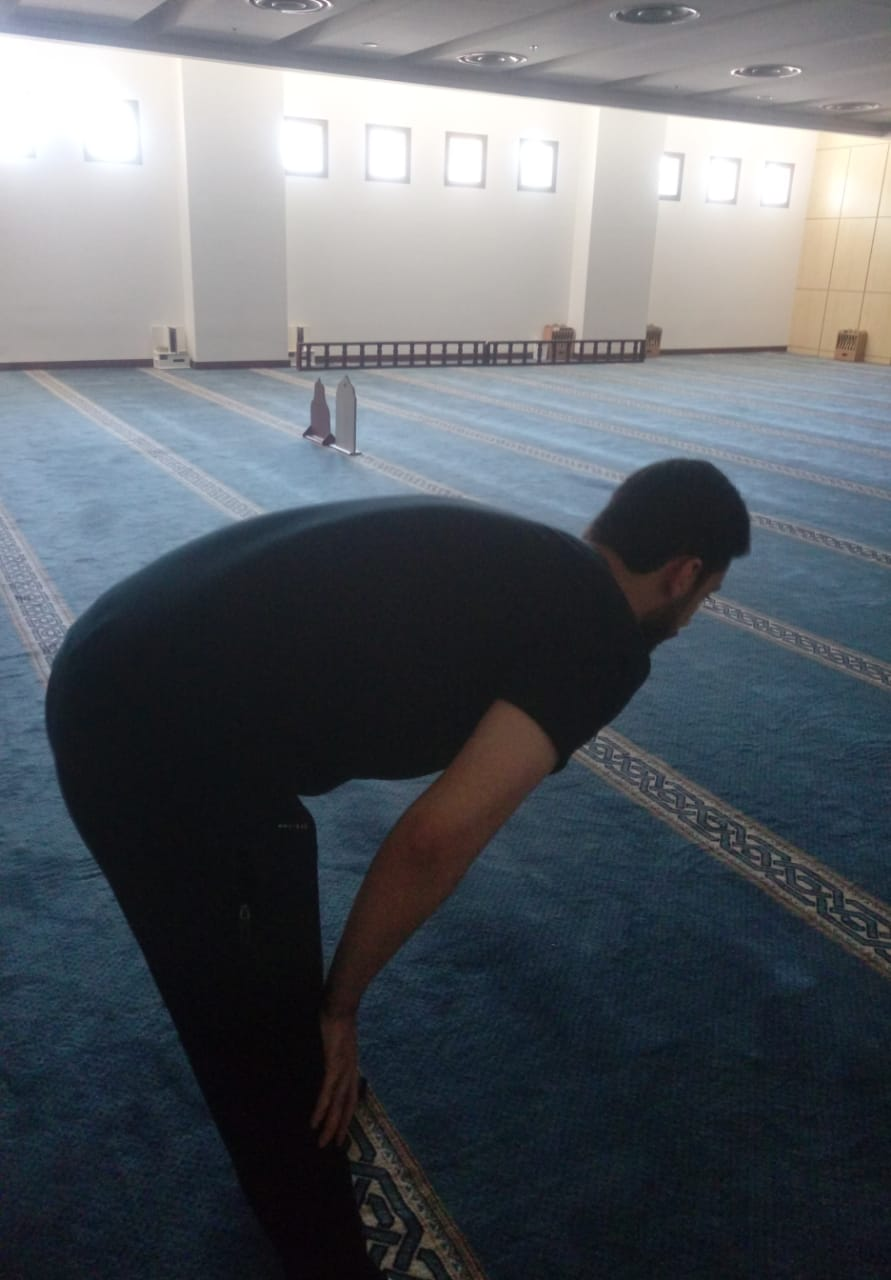ruku: (26, 339, 755, 1280)
